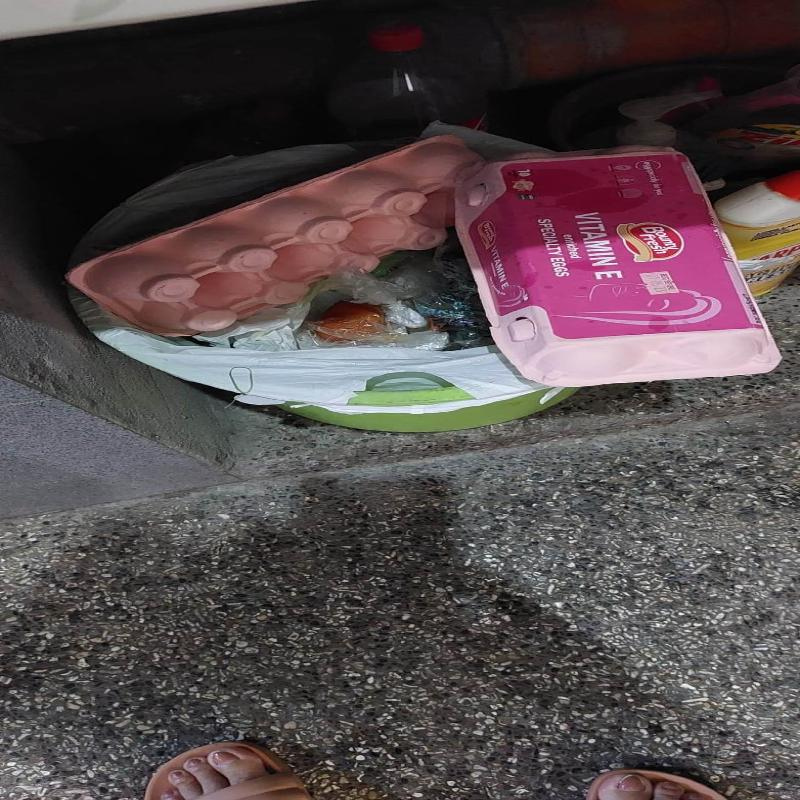plastic container: (61, 134, 486, 337), (450, 144, 785, 390), (719, 172, 800, 291)
